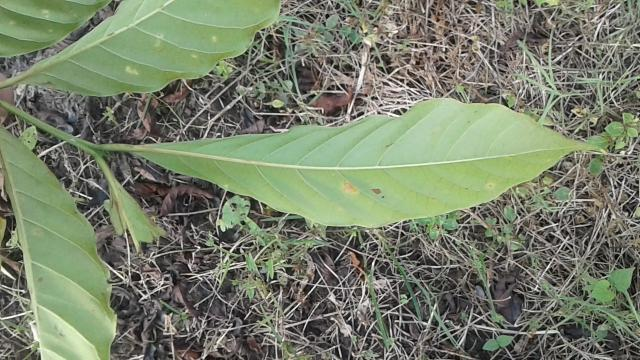rust_level_1: (128, 96, 614, 232)
